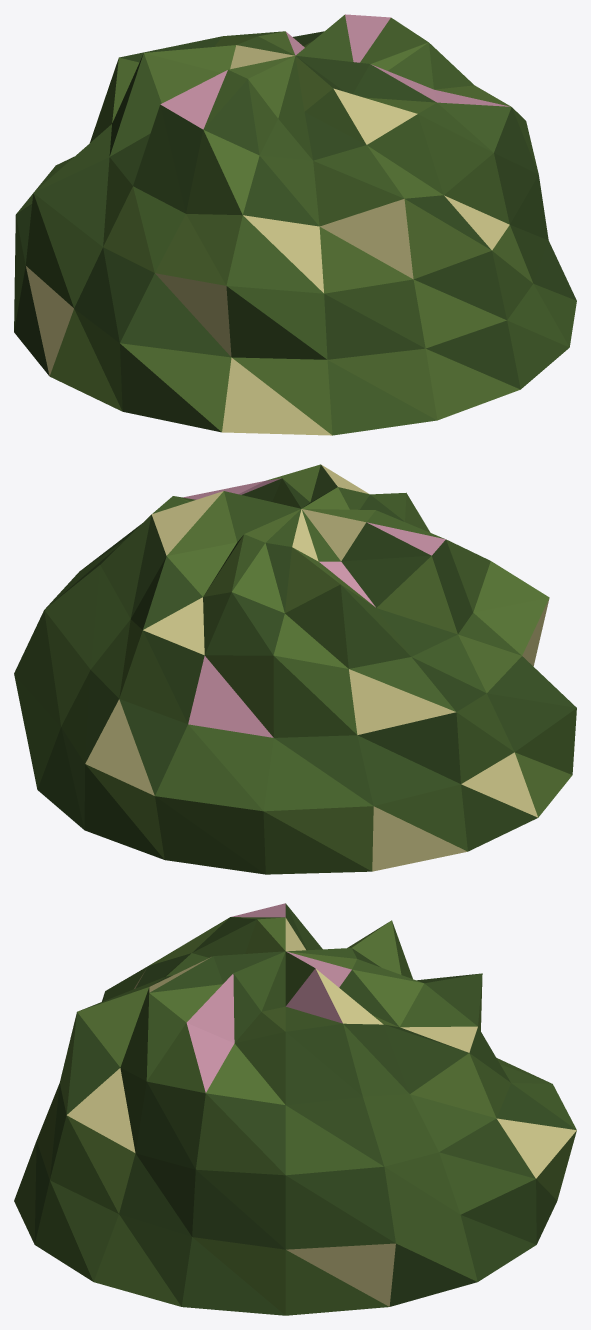
The model's file is nest-moss.glb.
3 renders of one model, top to bottom at view 1: azimuth 30°, elevation 25°; view 2: azimuth 150°, elevation 25°; view 3: azimuth 270°, elevation 25°, orthographic. The views are drawn at different scales.
Bounding box in the file's own units: 2 × 1.07 × 2.07.
